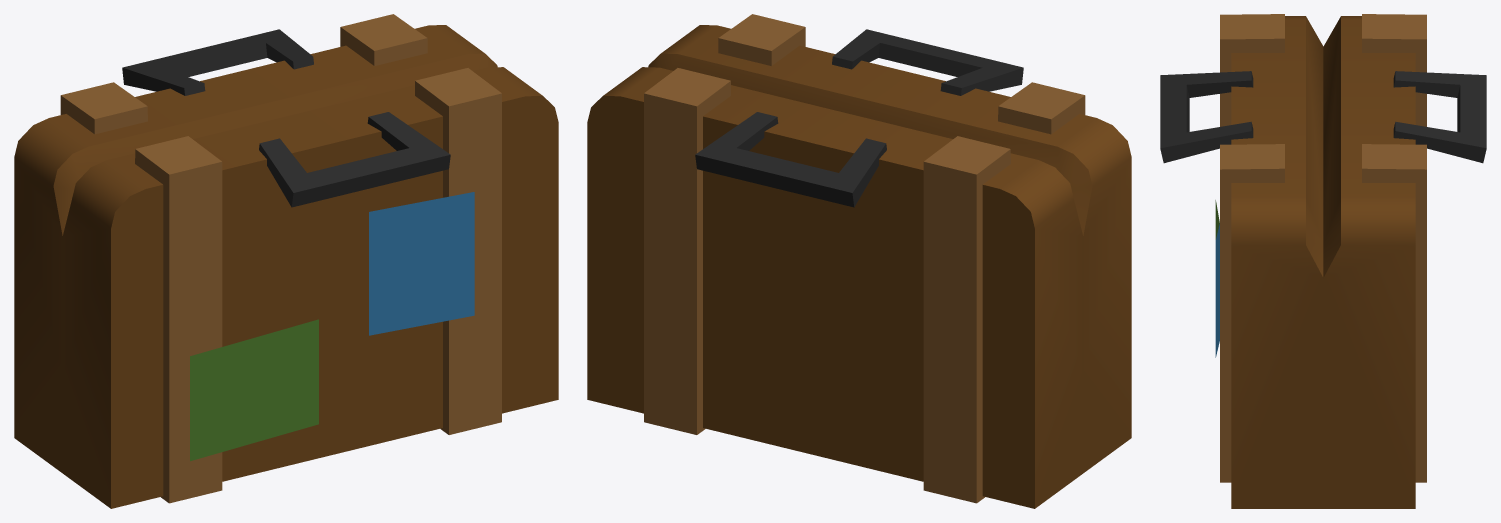
The model's file is bag_suitcase_big_01.fbx.
The picture shows the model from 3 angles, left to right: view 1: azimuth 30°, elevation 25°; view 2: azimuth 150°, elevation 25°; view 3: azimuth 270°, elevation 25°; orthographic projection. The views are drawn at different scales.
Visible parts, largest first — view 1: bag_suitcase_big_01; view 2: bag_suitcase_big_01; view 3: bag_suitcase_big_01.
Part boxes in pixels (x1,y1,x2,y2): bag_suitcase_big_01: (14, 14, 558, 508); bag_suitcase_big_01: (587, 14, 1131, 508); bag_suitcase_big_01: (1160, 14, 1486, 508).
Bounding box in the file's own units: 72.34 × 50.91 × 47.98.
